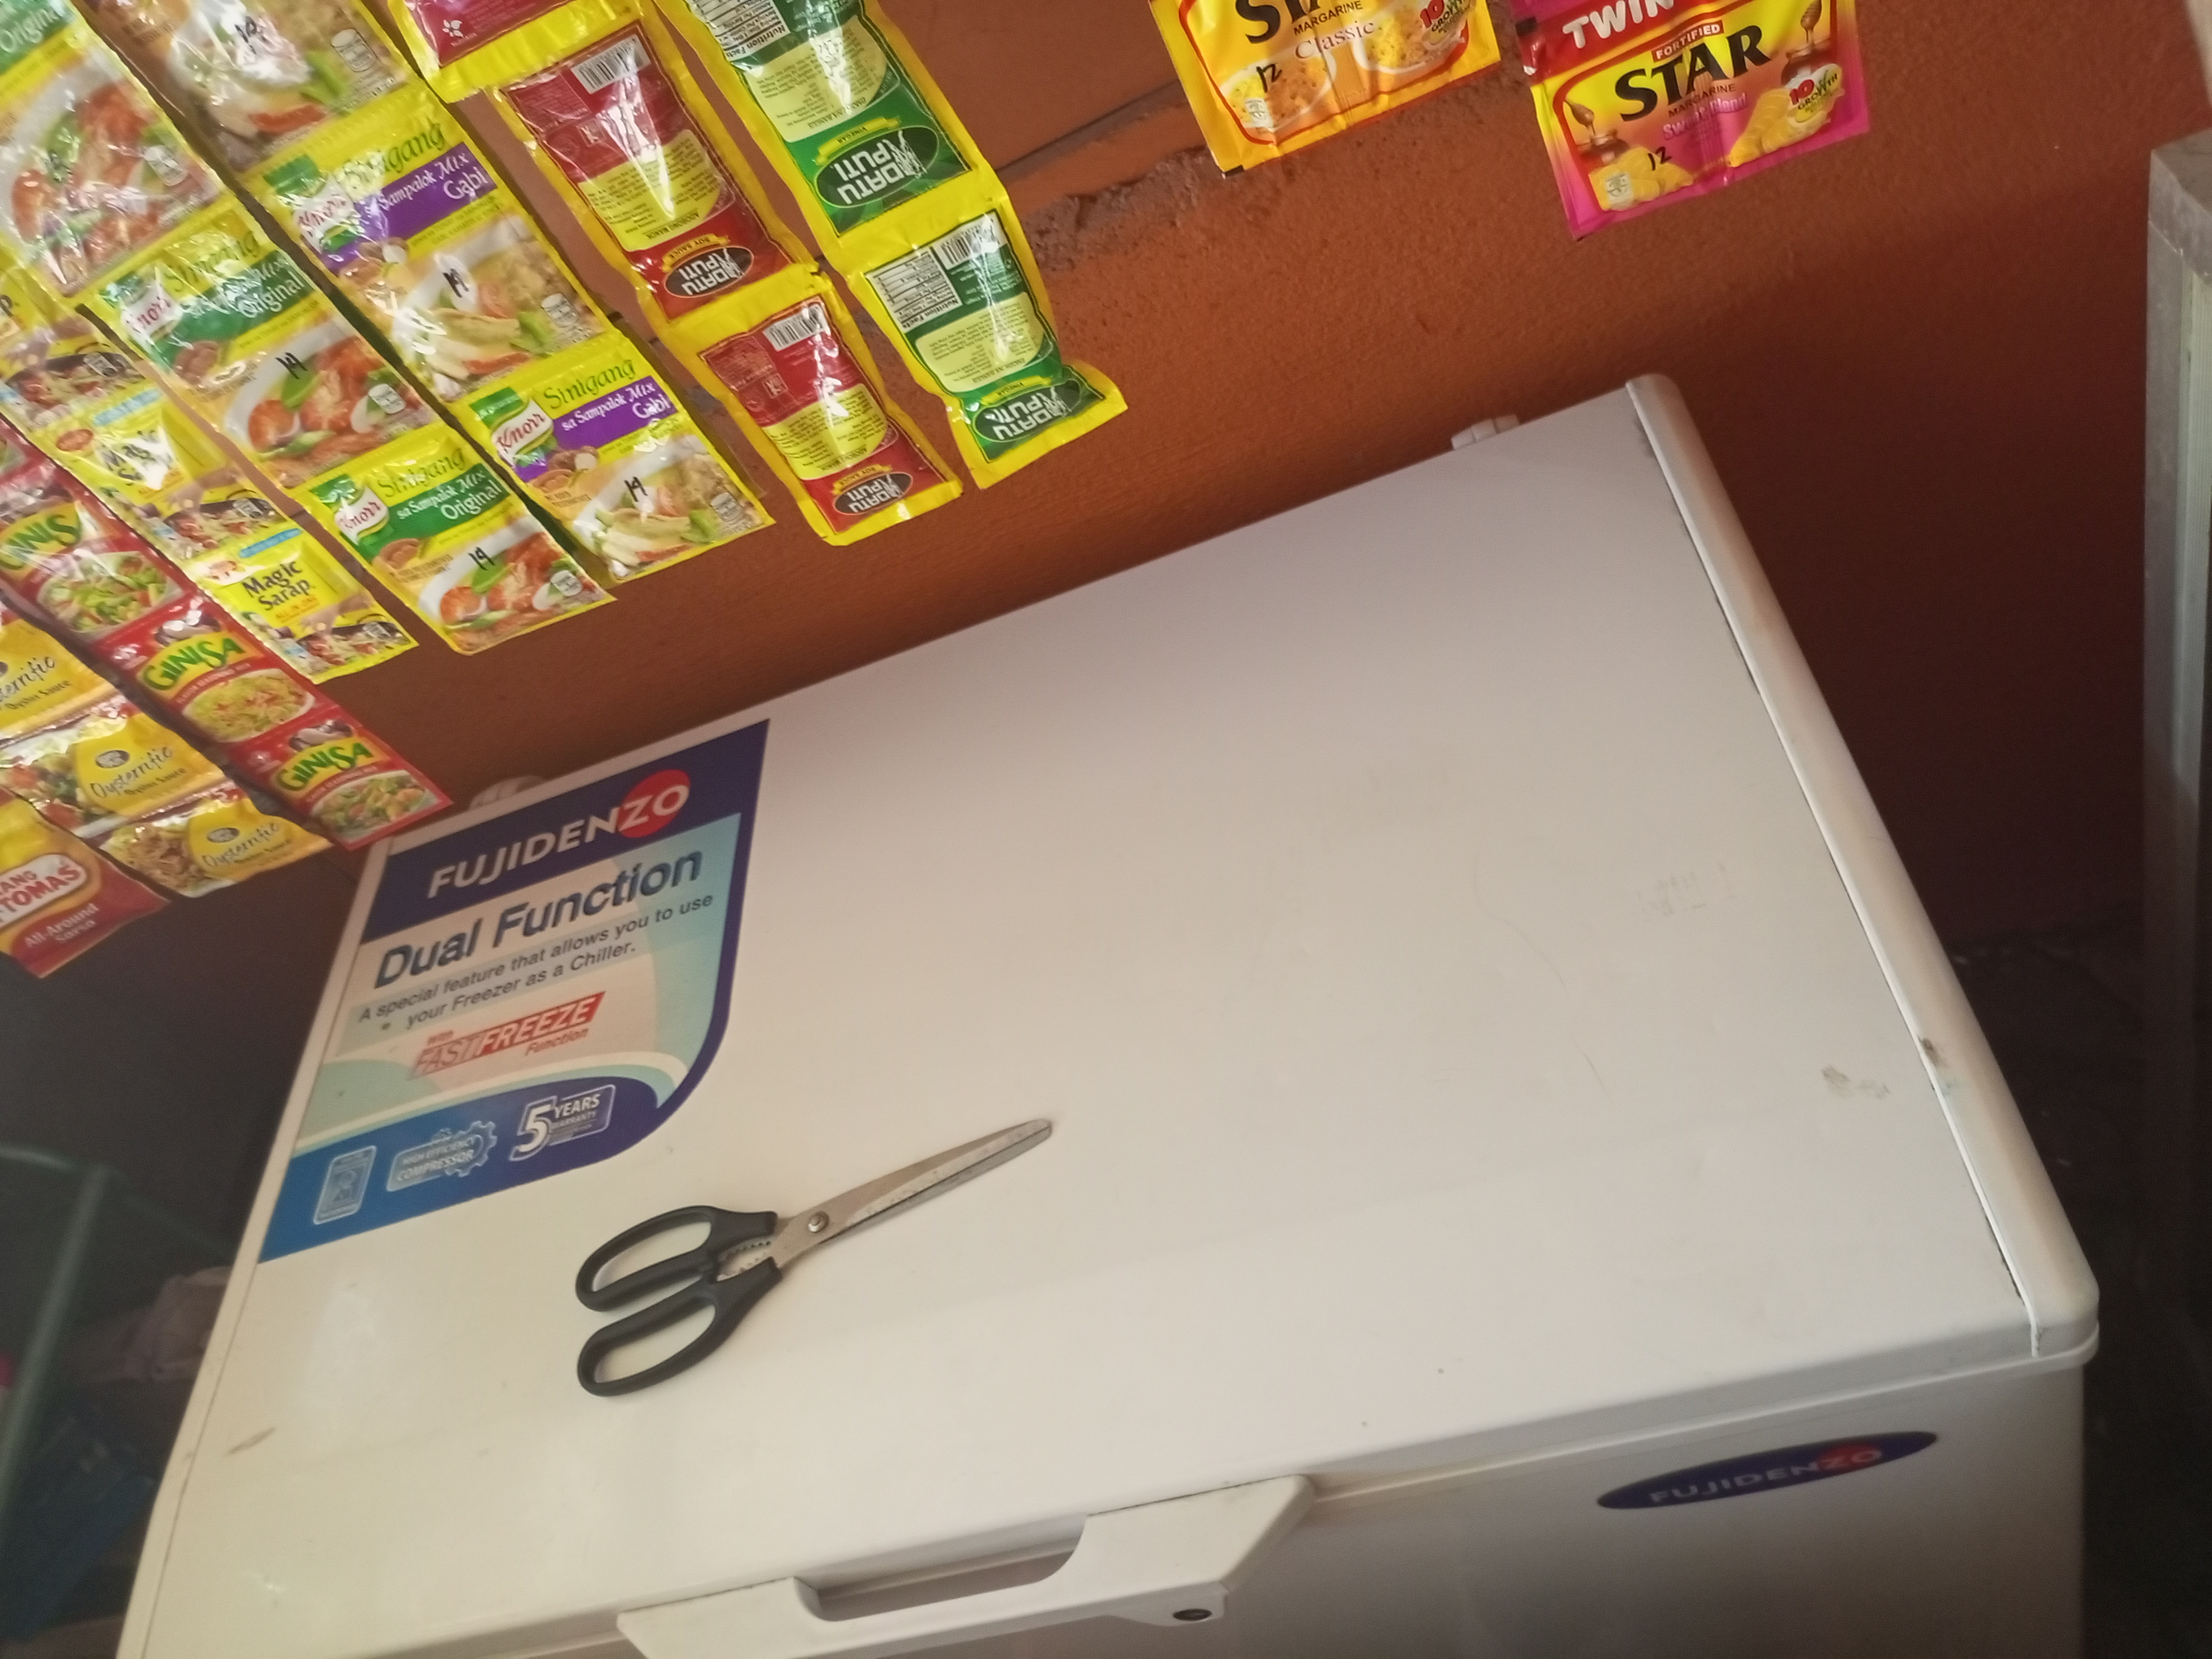scissor: (570, 1115, 1057, 1387)
